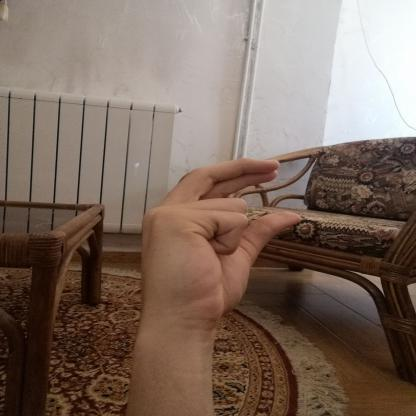DHELL: (124, 150, 312, 326)
